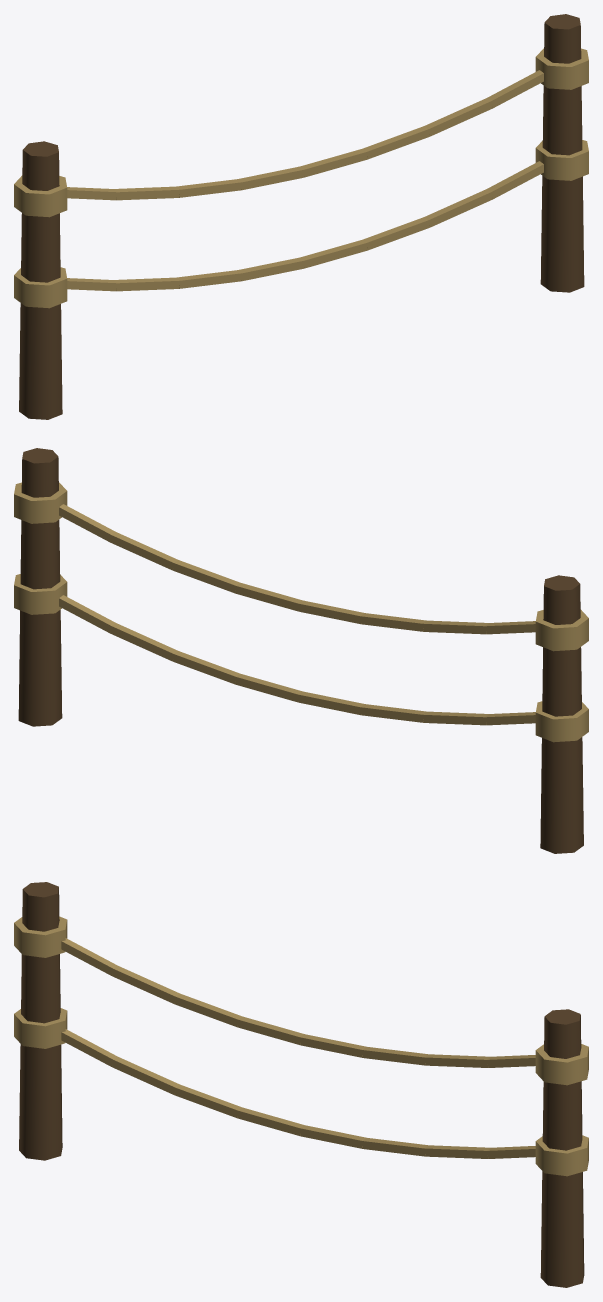
The model's file is jt_rope_rail.glb.
The picture shows the model from 3 angles, top to bottom: view 1: azimuth 30°, elevation 25°; view 2: azimuth 150°, elevation 25°; view 3: azimuth 330°, elevation 25°; orthographic projection.
Parts seen in each view (by area): view 1: jt_rope_rail; view 2: jt_rope_rail; view 3: jt_rope_rail.
Part boxes in pixels (x1=…): jt_rope_rail: x1=14, y1=14, x2=588, y2=419; jt_rope_rail: x1=14, y1=448, x2=588, y2=853; jt_rope_rail: x1=14, y1=882, x2=588, y2=1287.
Size of the model in its own units: 2.61 by 1.15 by 0.2144.
